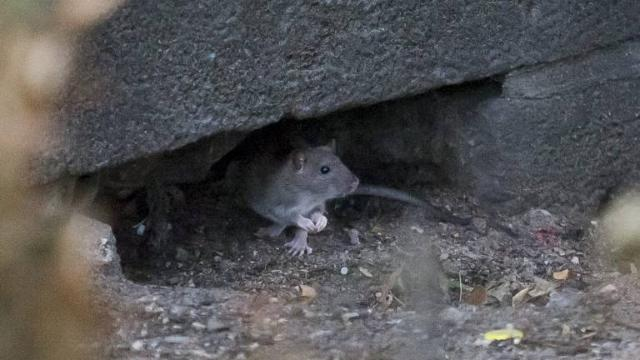rat: (216, 127, 400, 263)
